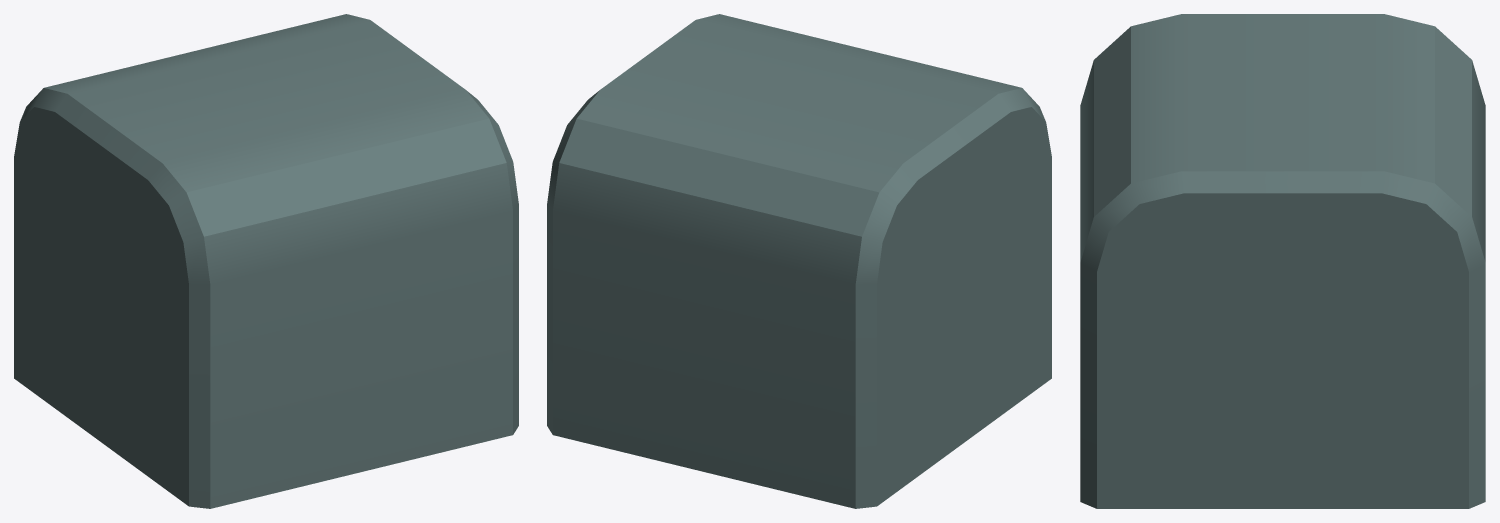
Rendered from updated_hedge3.fbx.
The picture shows the model from 3 angles, left to right: view 1: azimuth 30°, elevation 25°; view 2: azimuth 150°, elevation 25°; view 3: azimuth 270°, elevation 25°; orthographic projection. The views are drawn at different scales.
Parts seen in each view (by area): view 1: hedge3; view 2: hedge3; view 3: hedge3.
Boxes of the visible parts, box(x1,y1,x2,y2) form: hedge3: box(14, 14, 518, 508); hedge3: box(547, 14, 1051, 508); hedge3: box(1080, 14, 1485, 508).
Bounding box in the file's own units: 100 × 90 × 100.
